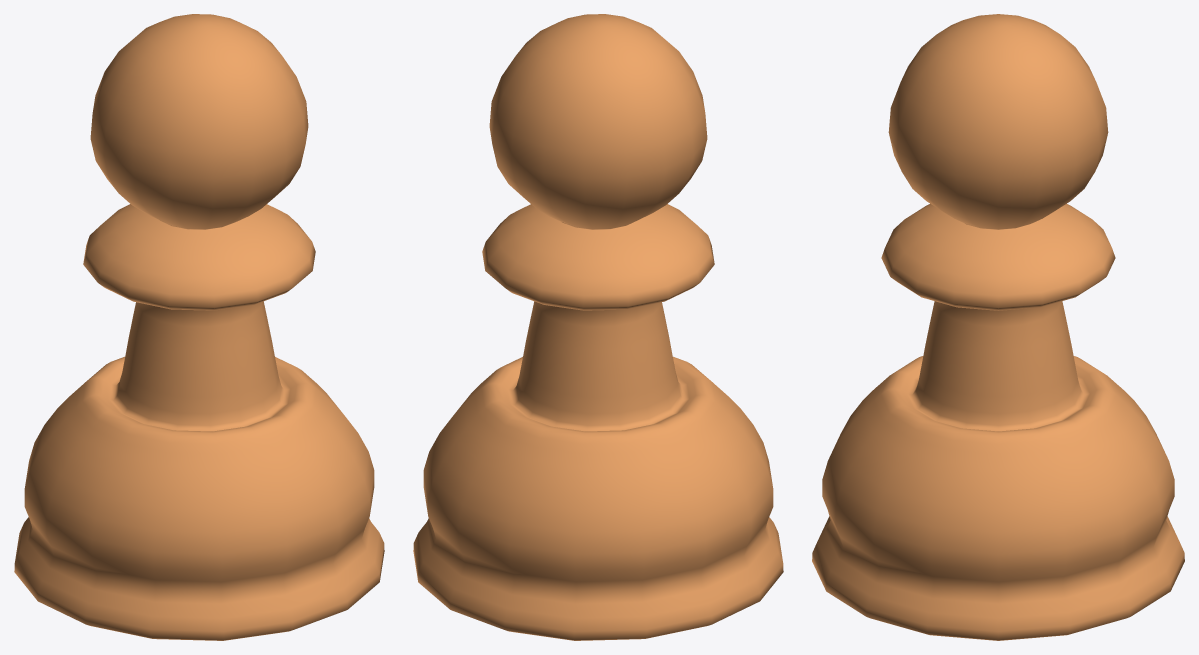
Rendered from chessPiece.fbx.
The picture shows the model from 3 angles, left to right: view 1: azimuth 30°, elevation 25°; view 2: azimuth 150°, elevation 25°; view 3: azimuth 270°, elevation 25°; orthographic projection.
Visible parts, largest first — view 1: Circle; view 2: Circle; view 3: Circle.
Boxes of the visible parts, <box> form: Circle: <box>14,14,384,640</box>; Circle: <box>413,14,783,640</box>; Circle: <box>812,14,1184,640</box>.
Bounding box in the file's own units: 134 × 216 × 134.
